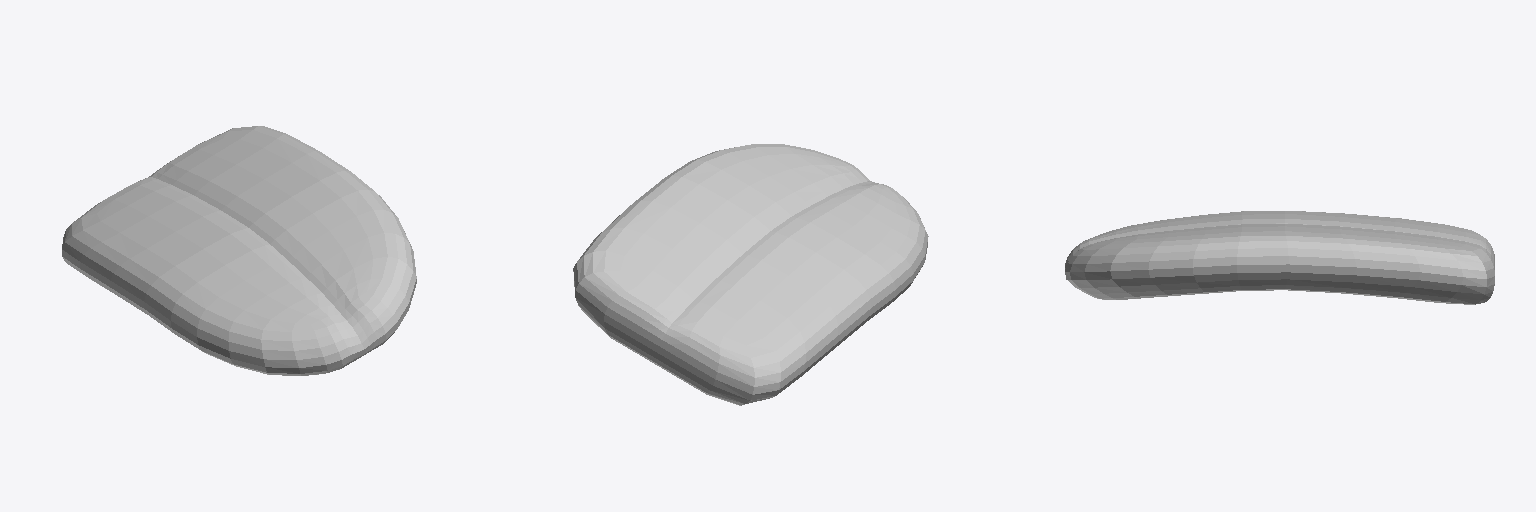
File: SubTool-20-14336343.OBJ
3 renders of one model, left to right at view 1: azimuth 30°, elevation 25°; view 2: azimuth 150°, elevation 25°; view 3: azimuth 270°, elevation 25°, orthographic.
Parts seen in each view (by area): view 1: Group13; view 2: Group13; view 3: Group13.
Part boxes in pixels (left/top/right/bottom): Group13: left=62, top=126, right=416, bottom=375; Group13: left=573, top=144, right=928, bottom=405; Group13: left=1065, top=211, right=1494, bottom=304.
Bounding box in the file's own units: 3.81 × 2.05 × 6.57.